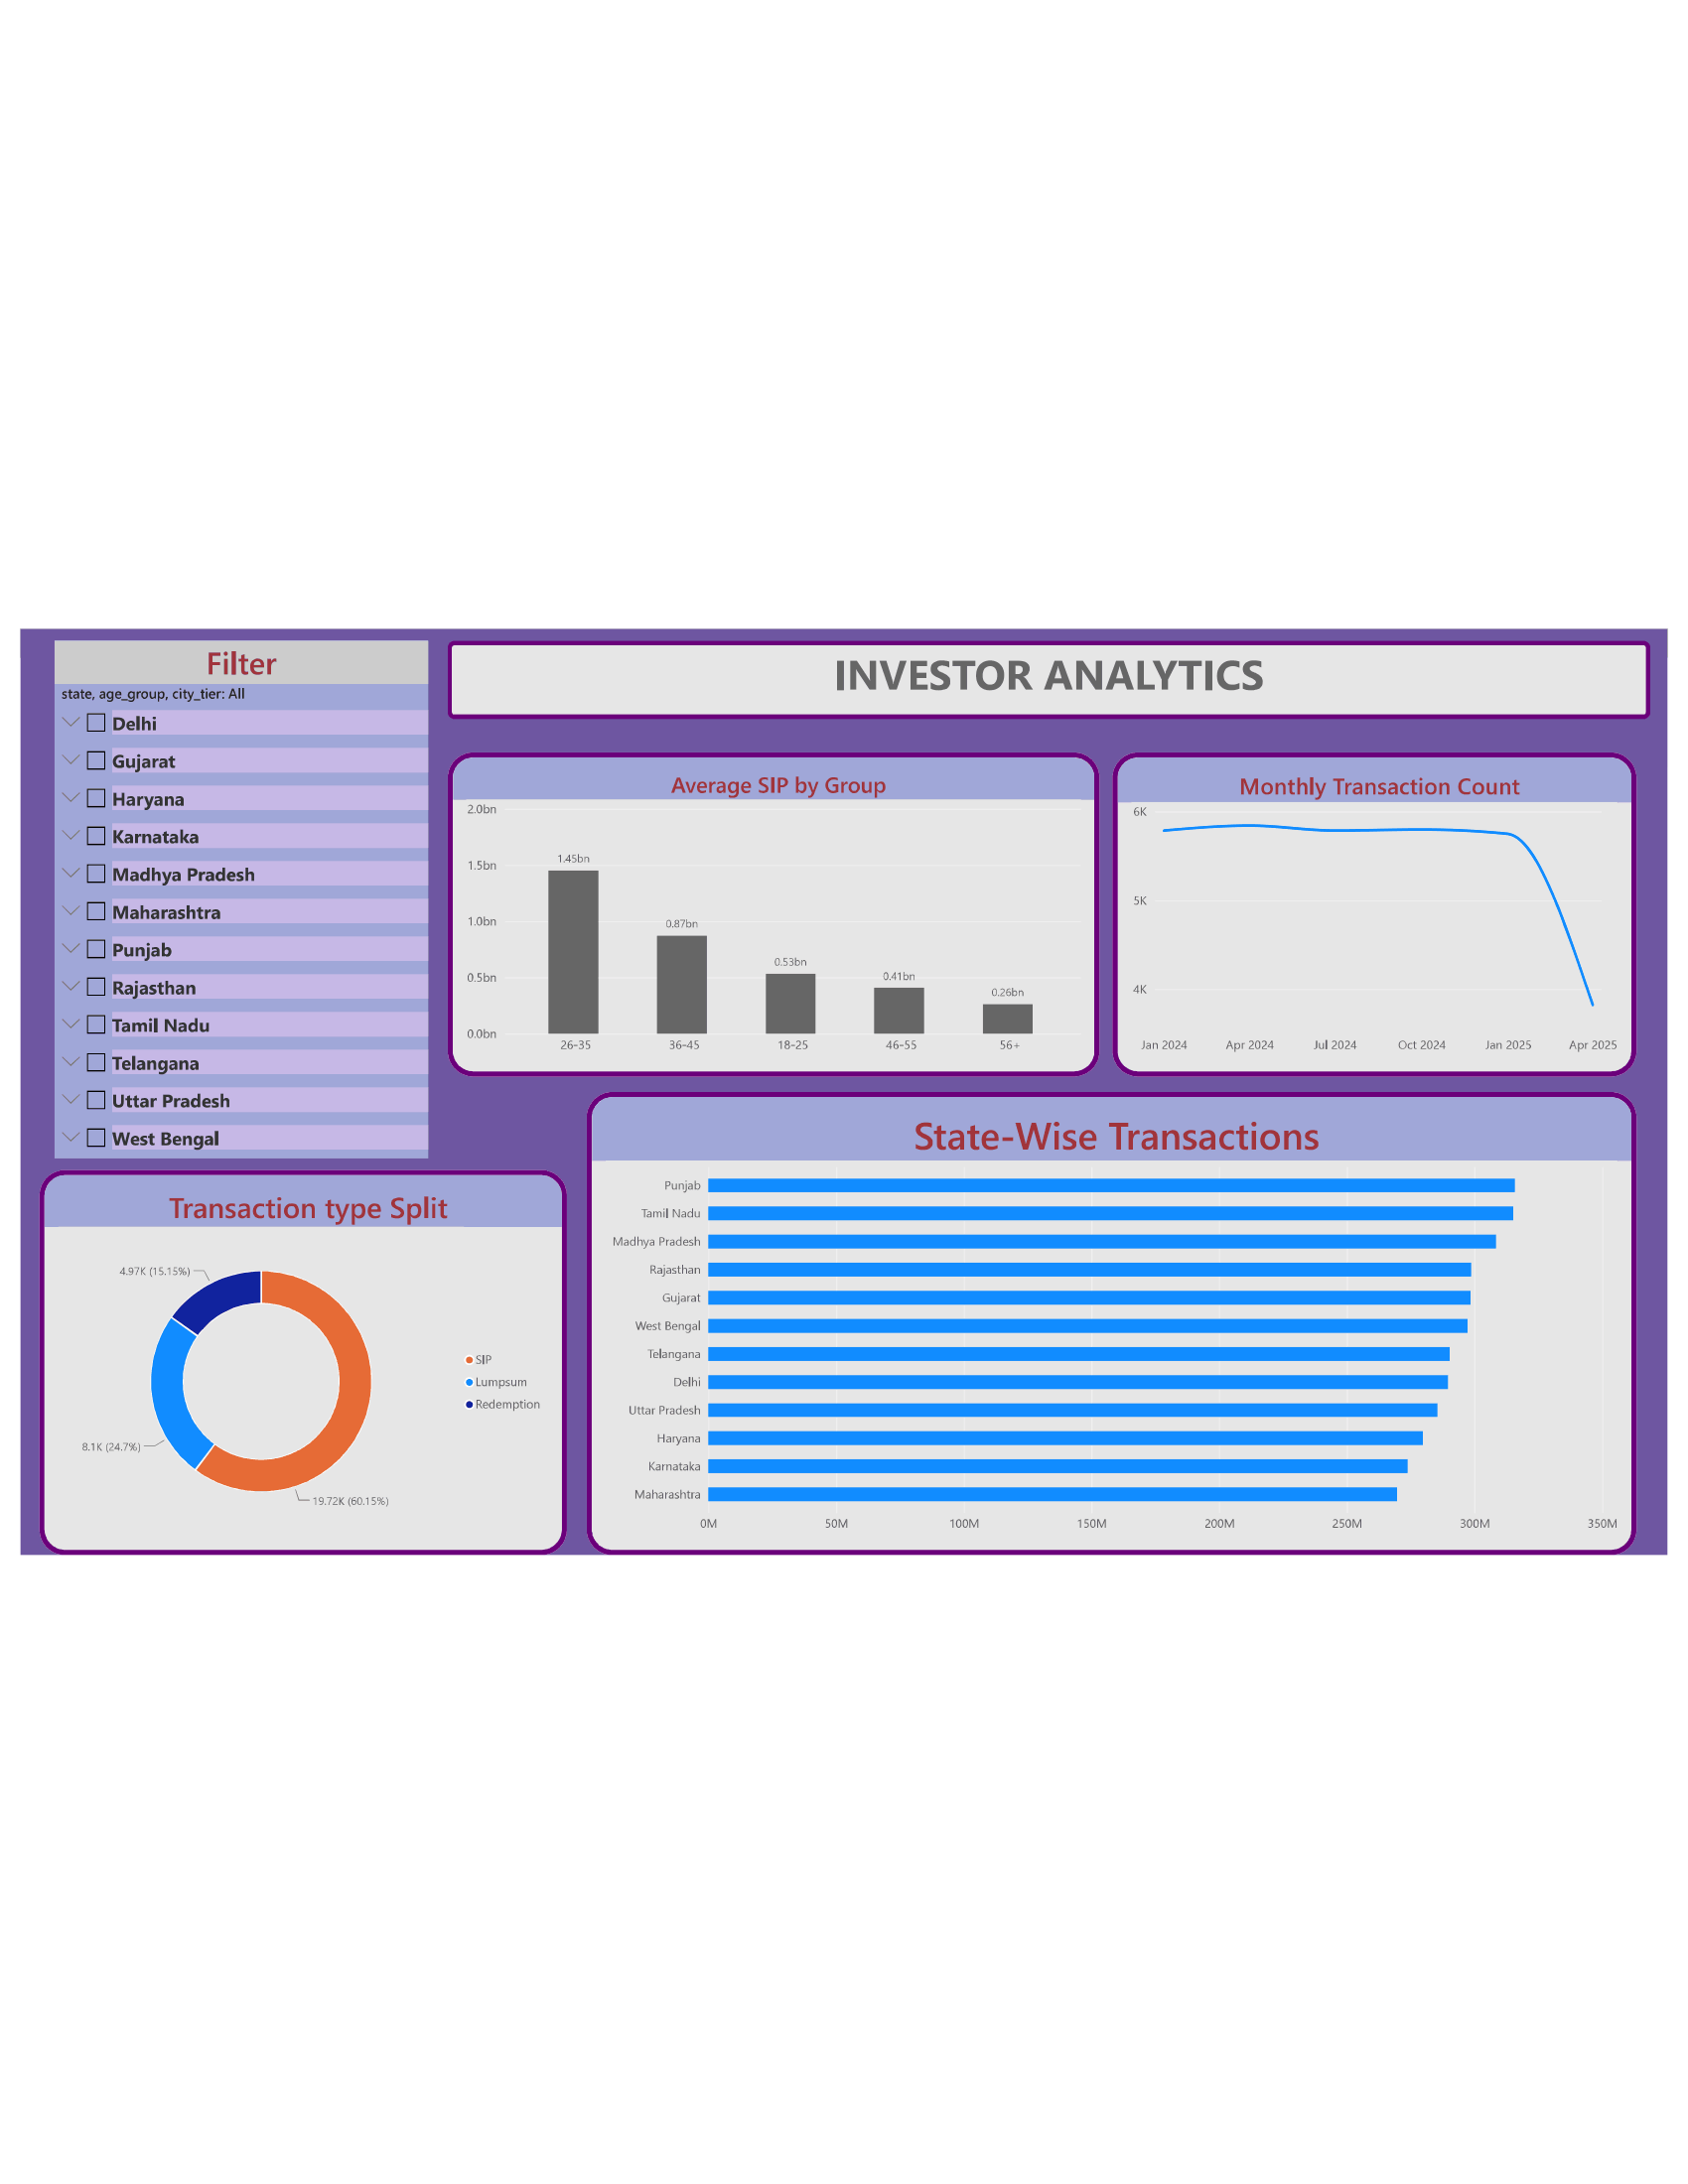

The dashboard page shown, as its layout file describes it:
{"tool":"powerbi","page":{"name":"Investor_Analytics","canvas":[1920,1080],"ordinal":2},"visuals":[{"type":"clusteredBarChart","title":"State-Wise Transactions","fields":{"Category":["clean_investor_transactions.state"],"Y":["Sum(clean_investor_transactions.amount_inr)"]},"box":[660.4,539.8,1224,539.8],"z":0},{"type":"donutChart","title":"Transaction type Split","fields":{"Category":["clean_investor_transactions.transaction_type"],"Y":["CountNonNull(clean_investor_transactions.transaction_type)"]},"box":[21.8,630.8,615,448.9],"z":1000},{"type":"clusteredColumnChart","title":"Average SIP by Group","fields":{"Category":["clean_investor_transactions.age_group"],"Y":["Sum(clean_investor_transactions.amount_inr)"]},"box":[498.3,144.3,759.3,377.7],"z":2000},{"type":"lineChart","title":"Monthly Transaction Count","fields":{"Category":["clean_investor_transactions.transaction_date.Variation.Date Hierarchy.Year","clean_investor_transactions.transaction_date.Variation.Date Hierarchy.Quarter","clean_investor_transactions.transaction_date.Variation.Date Hierarchy.Month","clean_investor_transactions.transaction_date.Variation.Date Hierarchy.Day"],"Y":["CountNonNull(clean_investor_transactions.investor_id)"]},"box":[1273.4,144.3,611,377.7],"z":3000},{"type":"slicer","title":"Filter","fields":{"Values":["clean_investor_transactions.state","clean_investor_transactions.age_group","clean_investor_transactions.city_tier"]},"box":[39.5,13.8,435,603.1],"z":4000},{"type":"textbox","box":[498.3,13.8,1401.9,91],"z":5000}]}

Visuals, with their boxes on the page's 1920x1080 design canvas (x1, y1, x2, y2). These are canvas units, not pixel positions in the 1688x2184 screenshot, which may show the page scaled, cropped or inside an application window:
"State-Wise Transactions" clusteredBarChart: <bbox>660, 540, 1884, 1080</bbox>
"Transaction type Split" donutChart: <bbox>22, 631, 637, 1080</bbox>
"Average SIP by Group" clusteredColumnChart: <bbox>498, 144, 1258, 522</bbox>
"Monthly Transaction Count" lineChart: <bbox>1273, 144, 1884, 522</bbox>
"Filter" slicer: <bbox>40, 14, 474, 617</bbox>
textbox: <bbox>498, 14, 1900, 105</bbox>
